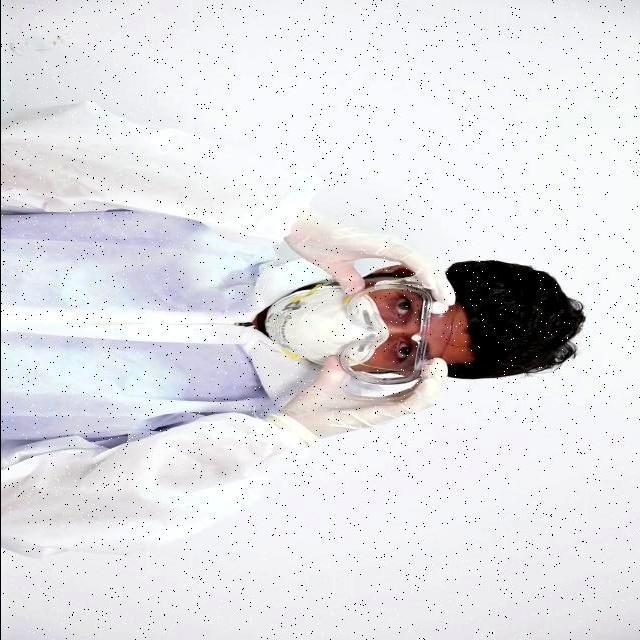apron: (278, 343, 448, 445), (270, 226, 460, 296)
no_gloves: (458, 258, 576, 398)
